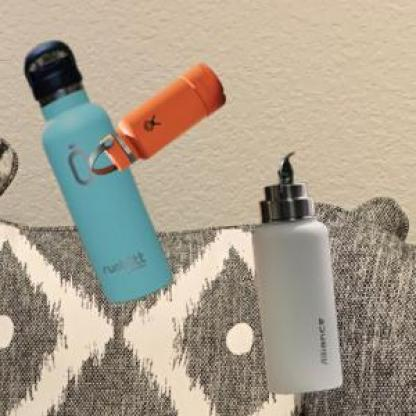bottle: (22, 38, 174, 312), (250, 150, 346, 395), (86, 60, 228, 179)
